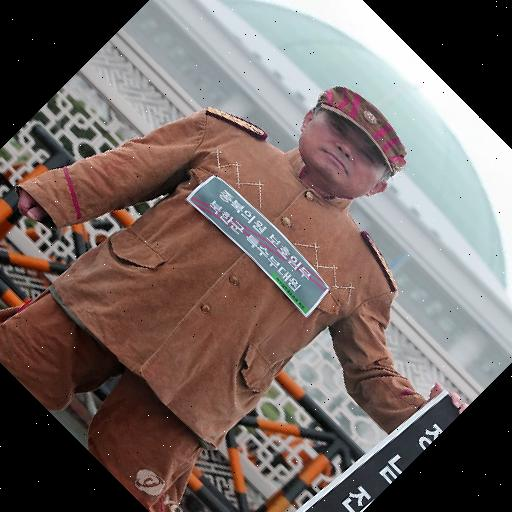north army: (16, 62, 500, 480)
